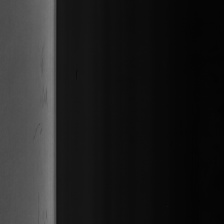water_spot: (36, 41, 49, 125)
